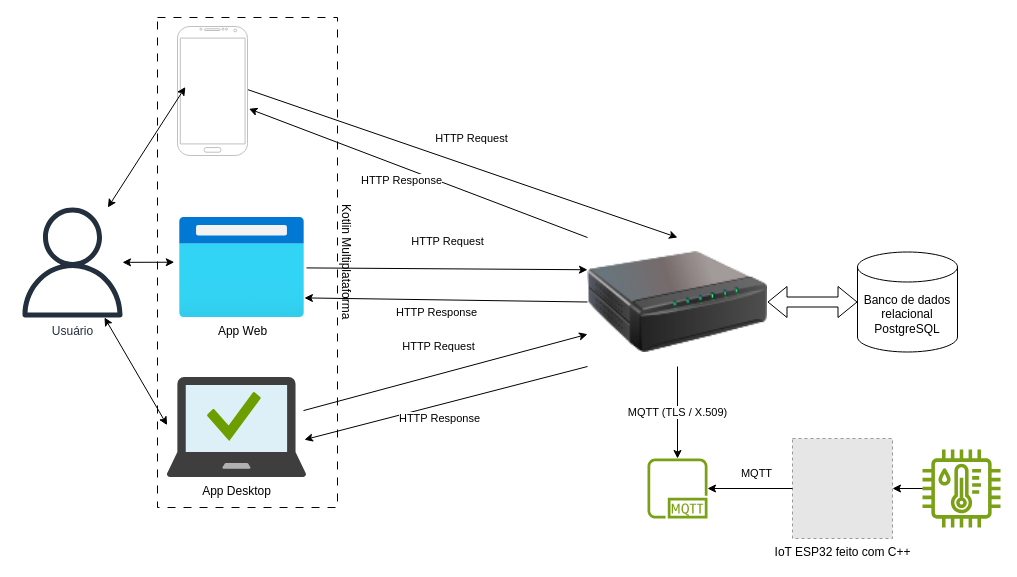
This 1017x577 diagram has some shape labels left out. Grey dashed boxes stand in for pictures. Each missing label, with the centre of its shape:
"App Mobile" goes at [212,91].
"Backend feito com Kotlin e Spring Boot" goes at [677,301].
"Broker MQTT AWS IoT Core" goes at [677,488].
